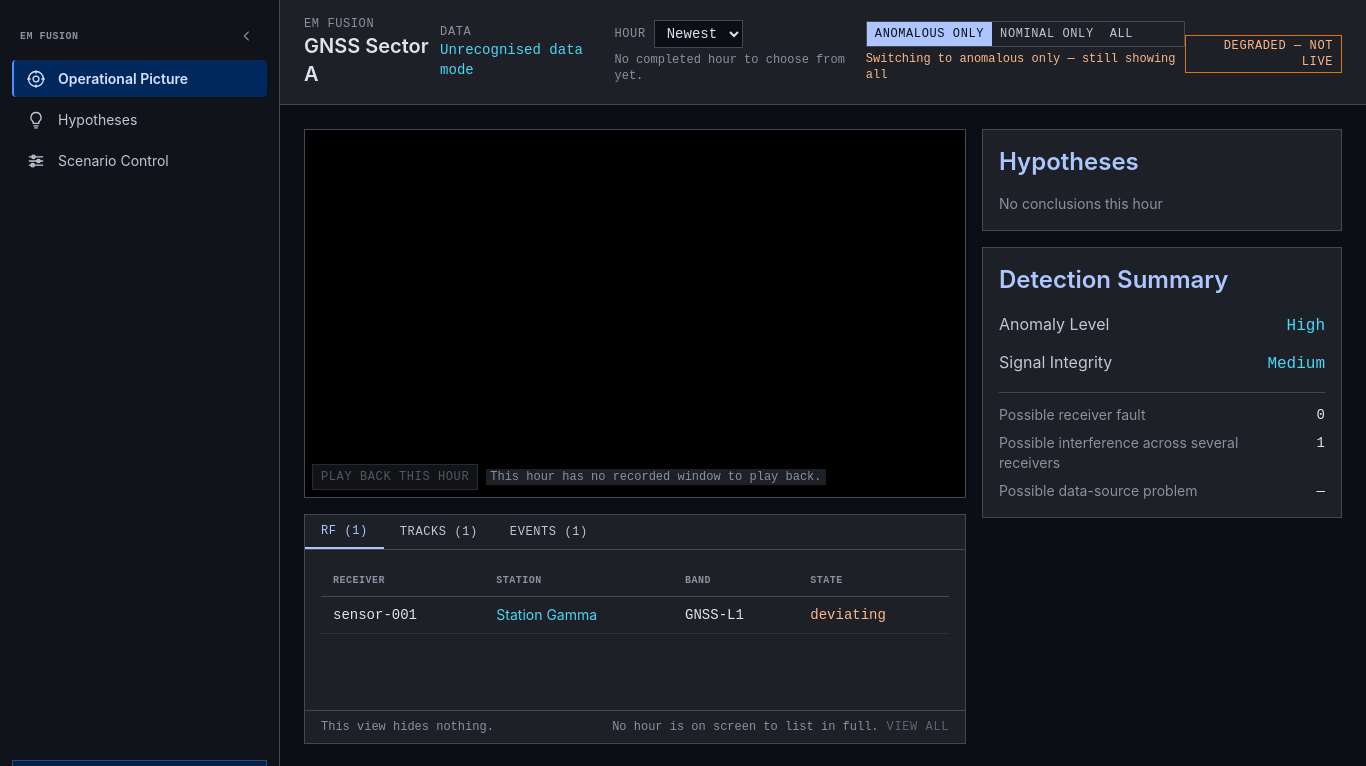
the navigation shell › shows the Scenario Control screen when its entry is chosen
Click the link "Scenario Control".
click(97, 160)  # box [26,150,169,170]
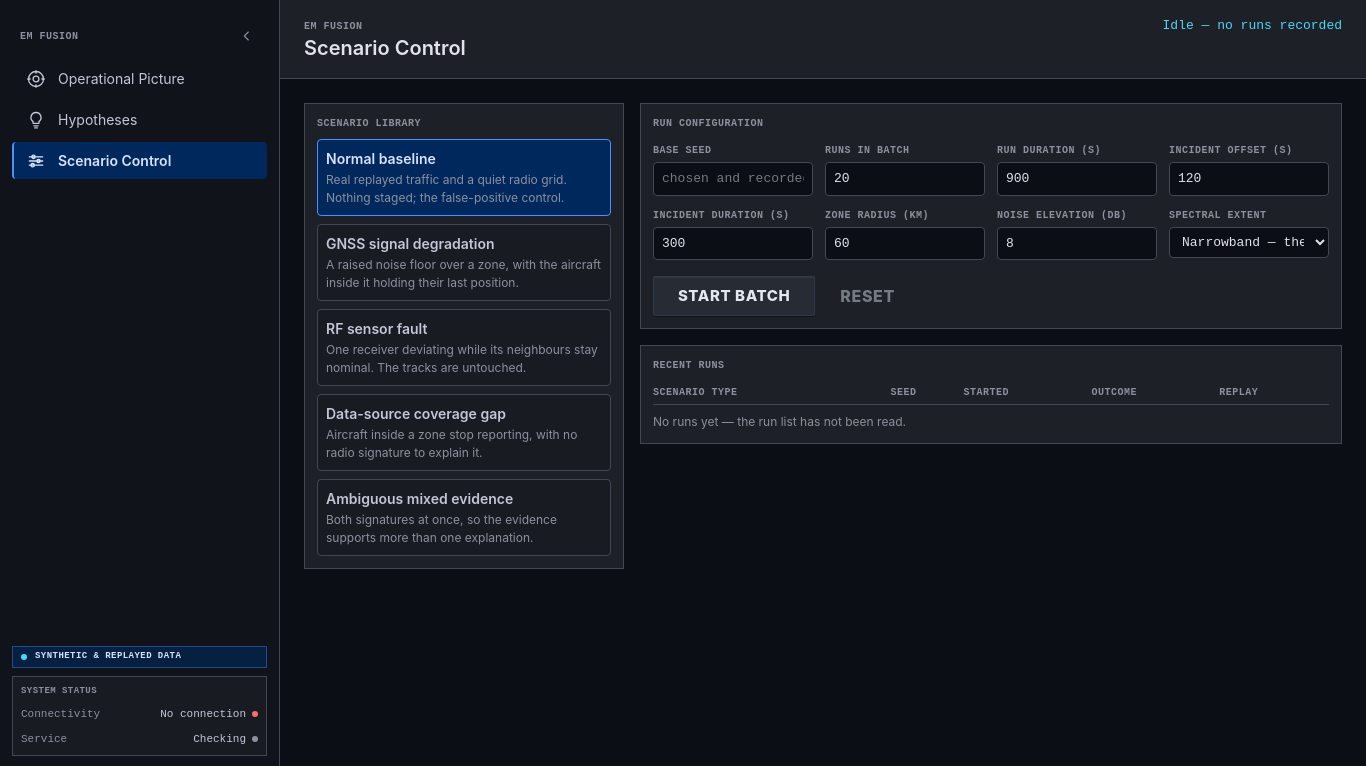
Expected: the table "Recent runs Scenario type Seed Started Outcome Replay" is shown, [653,358,1329,405]
Expected: the heading "Detection Summary" is gone
